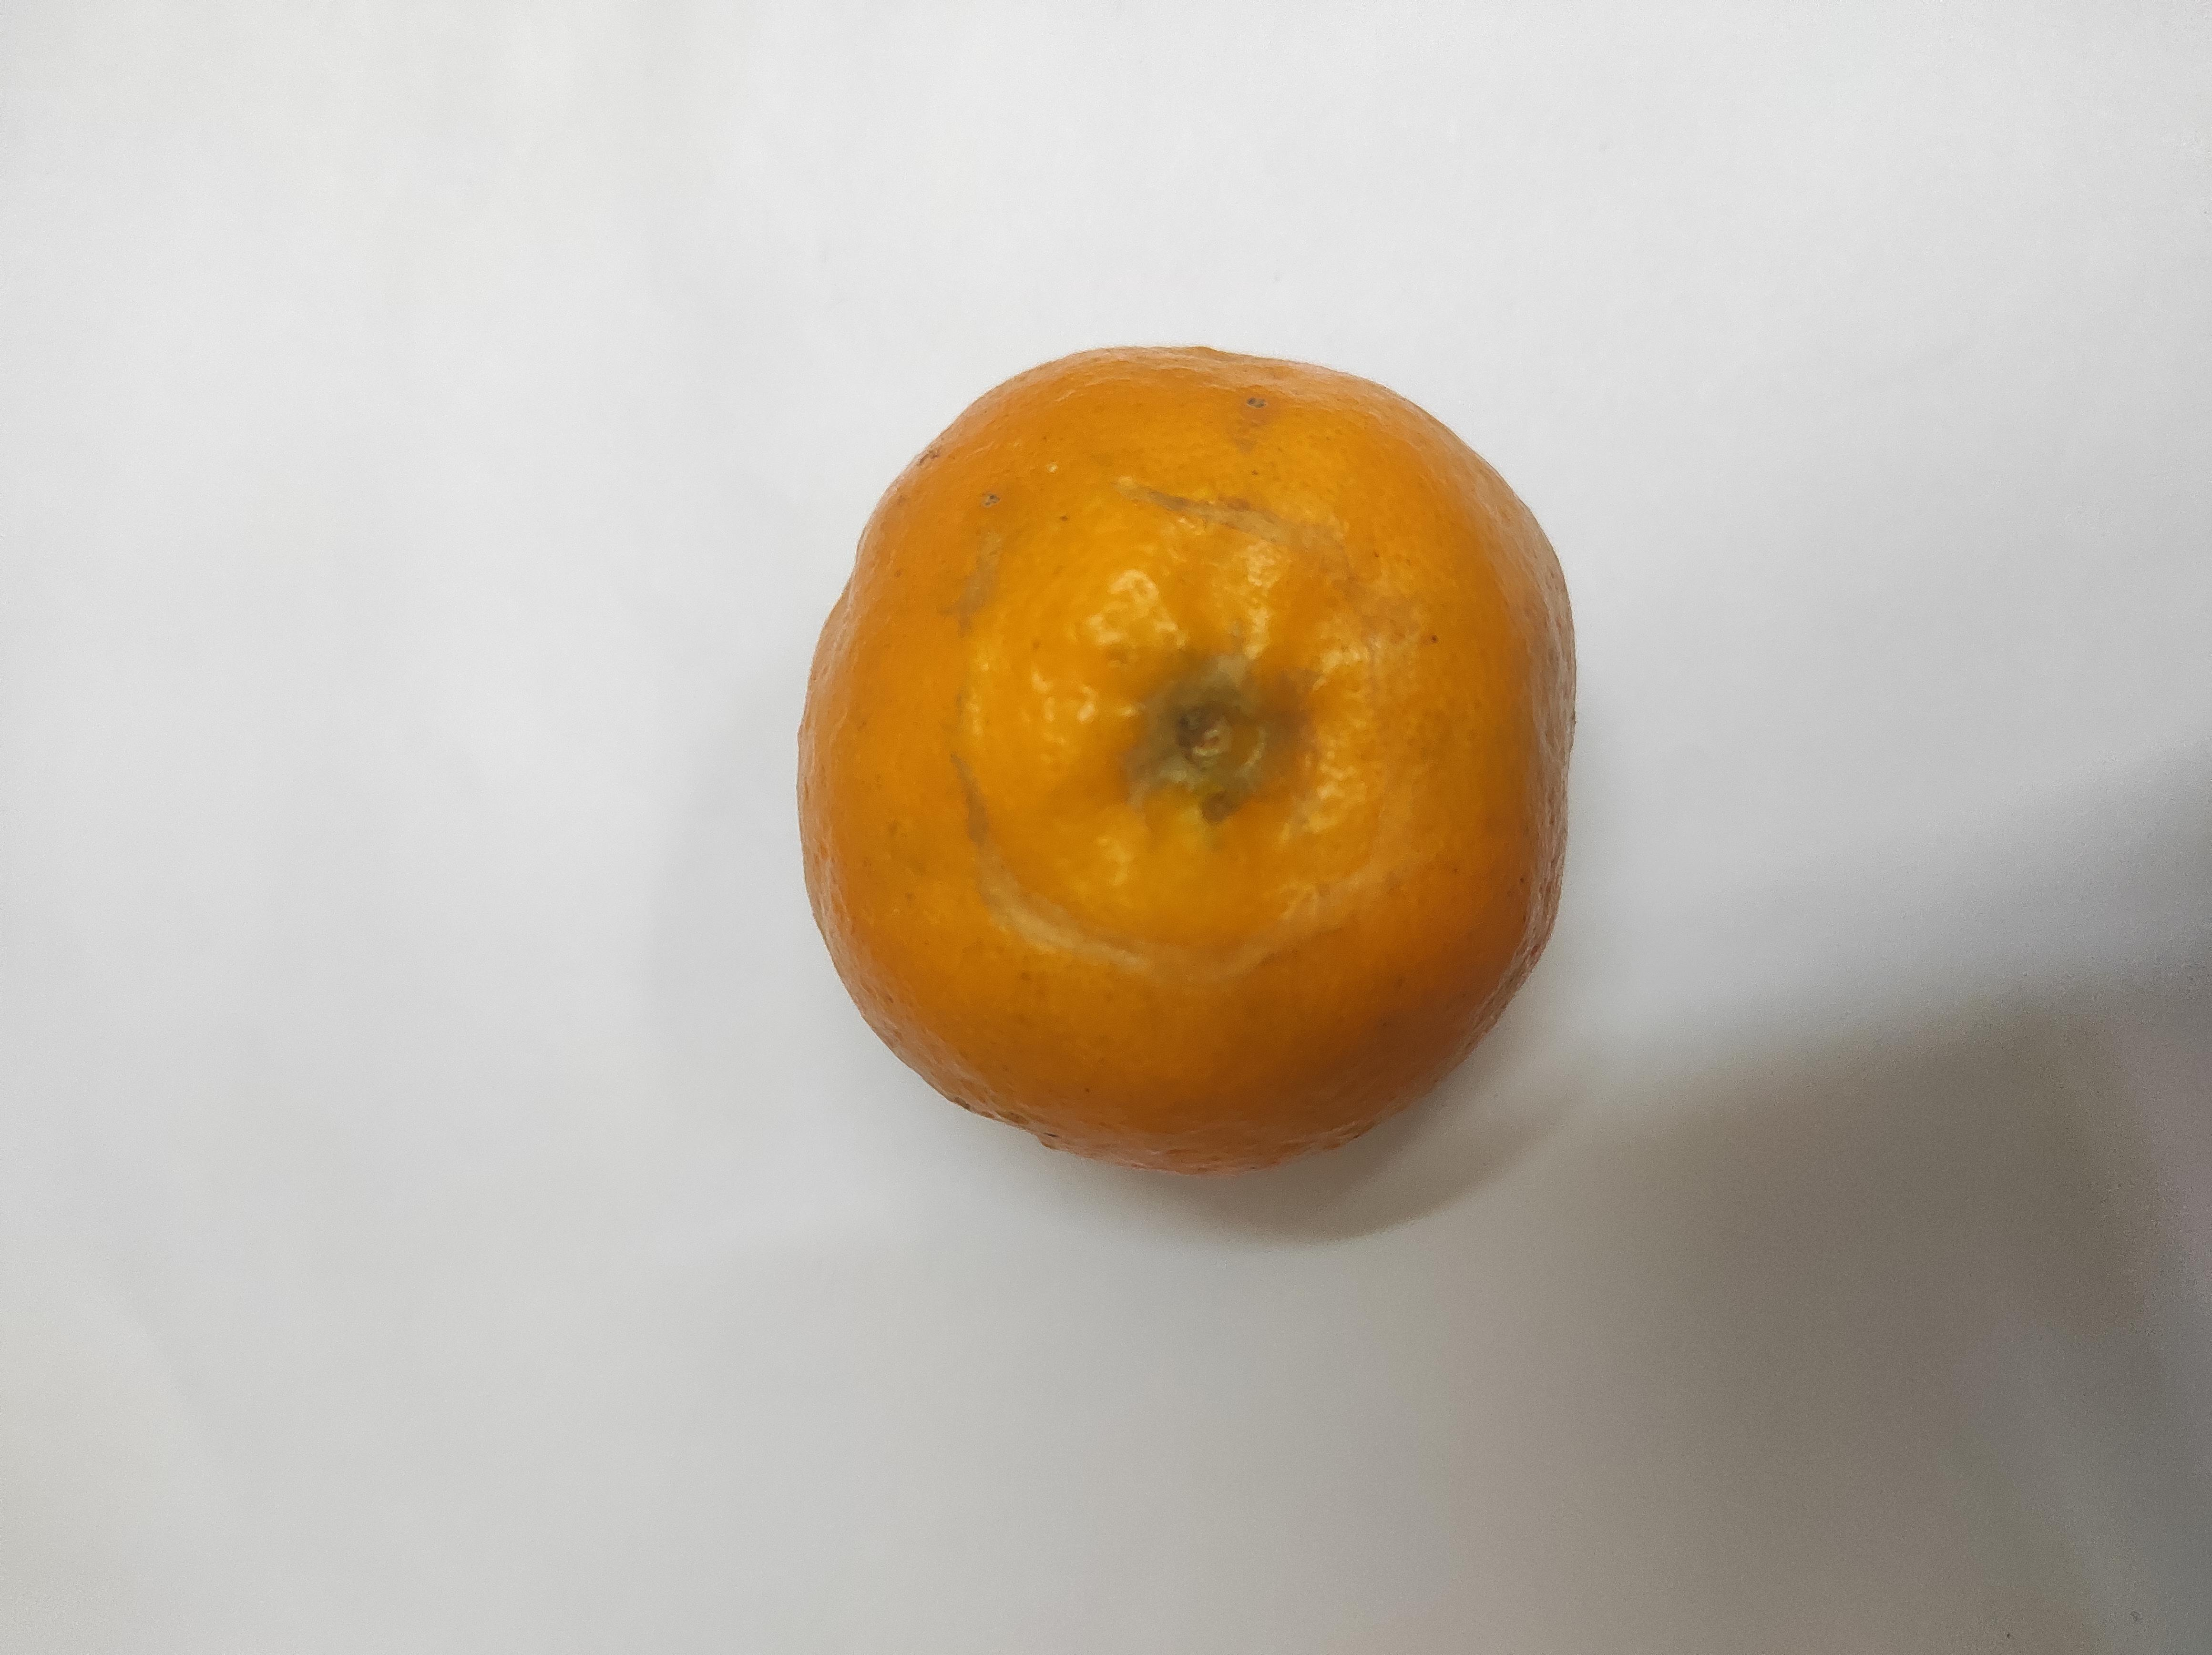Unripe: (796, 342, 1577, 1158)
